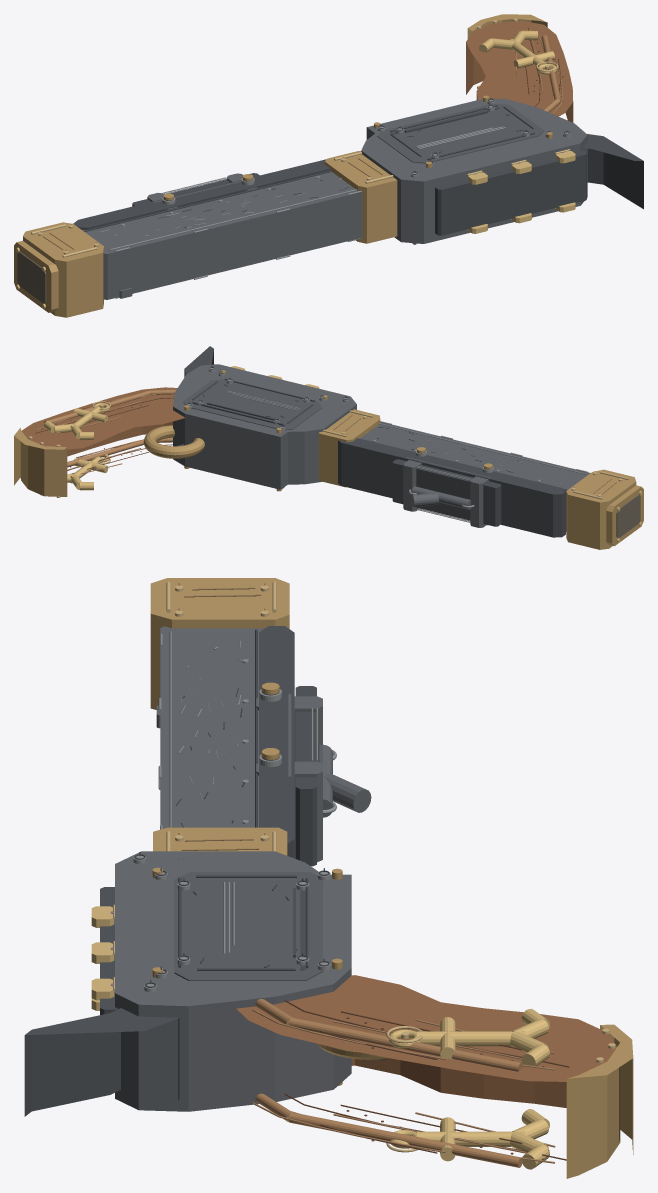
The picture shows the model from 3 angles, top to bottom: view 1: azimuth 30°, elevation 25°; view 2: azimuth 150°, elevation 25°; view 3: azimuth 270°, elevation 25°; orthographic projection. The views are drawn at different scales.
Parts seen in each view (by area): view 1: MaterialGroup_07_Worn_charcoal_steel, MaterialGroup_08_Darkened_steel_edges, MaterialGroup_09_Aged_brass, MaterialGroup_12_Dark_walnut_grip, MaterialGroup_10_Receiver_inset_steel, MaterialGroup_11_Raised_antique_gold, MaterialGroup_01_Polished_worn_steel_highlights, MaterialGroup_02_Deep_engraved_steel, MaterialGroup_14_Front_face_aged_brass, MaterialGroup_15_Front_inset_charcoal, MaterialGroup_03_Worn_brass_highlights, MaterialGroup_13_Walnut_grip_edging; view 2: MaterialGroup_07_Worn_charcoal_steel, MaterialGroup_08_Darkened_steel_edges, MaterialGroup_09_Aged_brass, MaterialGroup_12_Dark_walnut_grip, MaterialGroup_10_Receiver_inset_steel, MaterialGroup_11_Raised_antique_gold, MaterialGroup_01_Polished_worn_steel_highlights, MaterialGroup_13_Walnut_grip_edging, MaterialGroup_14_Front_face_aged_brass, MaterialGroup_02_Deep_engraved_steel, MaterialGroup_15_Front_inset_charcoal, MaterialGroup_03_Worn_brass_highlights (+2 smaller); view 3: MaterialGroup_07_Worn_charcoal_steel, MaterialGroup_08_Darkened_steel_edges, MaterialGroup_12_Dark_walnut_grip, MaterialGroup_09_Aged_brass, MaterialGroup_10_Receiver_inset_steel, MaterialGroup_11_Raised_antique_gold, MaterialGroup_13_Walnut_grip_edging, MaterialGroup_01_Polished_worn_steel_highlights, MaterialGroup_02_Deep_engraved_steel, MaterialGroup_05_Walnut_grain_highlights, MaterialGroup_04_Walnut_grain_dark_lines, MaterialGroup_03_Worn_brass_highlights.
Boxes of the visible parts, box(x1,y1,x2,y2) form: MaterialGroup_07_Worn_charcoal_steel: box(82, 98, 587, 299); MaterialGroup_08_Darkened_steel_edges: box(73, 107, 643, 235); MaterialGroup_09_Aged_brass: box(23, 14, 552, 317); MaterialGroup_12_Dark_walnut_grip: box(466, 20, 573, 122); MaterialGroup_10_Receiver_inset_steel: box(377, 104, 544, 163); MaterialGroup_11_Raised_antique_gold: box(468, 30, 575, 233); MaterialGroup_01_Polished_worn_steel_highlights: box(100, 99, 570, 298); MaterialGroup_02_Deep_engraved_steel: box(83, 98, 570, 244); MaterialGroup_14_Front_face_aged_brass: box(14, 240, 58, 312); MaterialGroup_15_Front_inset_charcoal: box(17, 252, 46, 303); MaterialGroup_03_Worn_brass_highlights: box(31, 18, 570, 257); MaterialGroup_13_Walnut_grip_edging: box(541, 35, 560, 112); MaterialGroup_07_Worn_charcoal_steel: box(173, 364, 590, 531); MaterialGroup_08_Darkened_steel_edges: box(176, 346, 565, 537); MaterialGroup_09_Aged_brass: box(14, 370, 636, 549); MaterialGroup_12_Dark_walnut_grip: box(21, 387, 184, 456); MaterialGroup_10_Receiver_inset_steel: box(183, 379, 322, 430); MaterialGroup_11_Raised_antique_gold: box(44, 366, 319, 490); MaterialGroup_01_Polished_worn_steel_highlights: box(186, 368, 587, 522); MaterialGroup_13_Walnut_grip_edging: box(44, 389, 175, 467); MaterialGroup_14_Front_face_aged_brass: box(606, 485, 643, 546); MaterialGroup_02_Deep_engraved_steel: box(186, 366, 567, 490); MaterialGroup_15_Front_inset_charcoal: box(616, 494, 640, 538); MaterialGroup_03_Worn_brass_highlights: box(29, 401, 629, 499); MaterialGroup_07_Worn_charcoal_steel: box(115, 626, 371, 1111); MaterialGroup_08_Darkened_steel_edges: box(24, 626, 386, 1116); MaterialGroup_12_Dark_walnut_grip: box(236, 975, 620, 1141); MaterialGroup_09_Aged_brass: box(150, 578, 633, 1178); MaterialGroup_10_Receiver_inset_steel: box(174, 872, 322, 980); MaterialGroup_11_Raised_antique_gold: box(91, 906, 549, 1169); MaterialGroup_13_Walnut_grip_edging: box(255, 999, 522, 1167); MaterialGroup_01_Polished_worn_steel_highlights: box(110, 631, 336, 992); MaterialGroup_02_Deep_engraved_steel: box(134, 629, 329, 987); MaterialGroup_05_Walnut_grain_highlights: box(252, 1009, 555, 1163); MaterialGroup_04_Walnut_grain_dark_lines: box(284, 1000, 569, 1160); MaterialGroup_03_Worn_brass_highlights: box(113, 581, 615, 1152).
Size of the model in its own units: 10.17 by 1.18 by 5.12.
